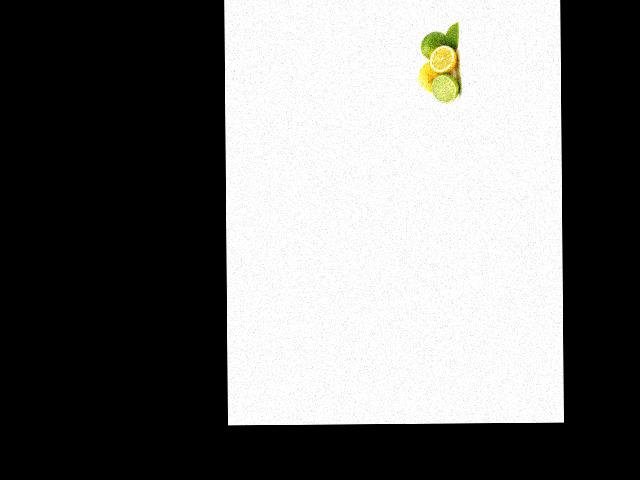lemon: (416, 62, 441, 93)
